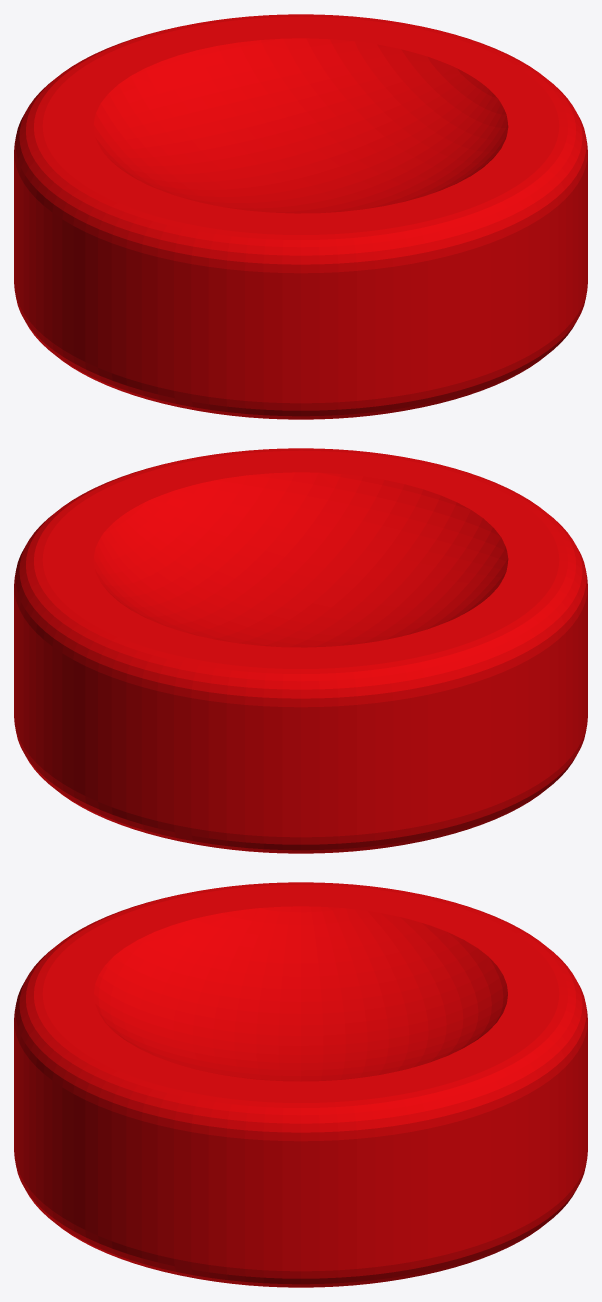
The model's file is disc_game.dae.
The picture shows the model from 3 angles, top to bottom: view 1: azimuth 30°, elevation 25°; view 2: azimuth 150°, elevation 25°; view 3: azimuth 270°, elevation 25°; orthographic projection.
Parts seen in each view (by area): view 1: 4gewinnt.003; view 2: 4gewinnt.003; view 3: 4gewinnt.003.
Part boxes in pixels (x1,y1,x2,y2): 4gewinnt.003: (14, 14, 587, 419); 4gewinnt.003: (14, 448, 587, 853); 4gewinnt.003: (14, 882, 587, 1287).
Bounding box in the file's own units: 0.138 × 0.138 × 0.0483.
